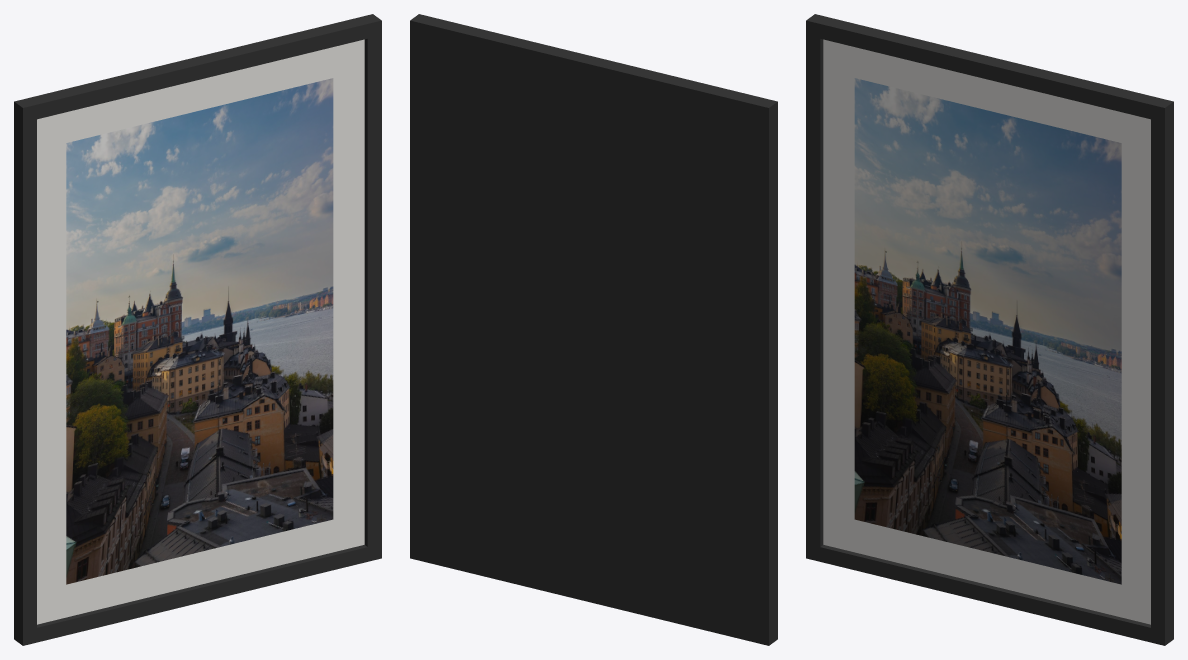
File: over-soder-60.gltf
3 renders of one model, left to right at view 1: azimuth 30°, elevation 25°; view 2: azimuth 150°, elevation 25°; view 3: azimuth 330°, elevation 25°, orthographic.
Parts seen in each view (by area): view 1: tavla; view 2: tavla; view 3: tavla.
Boxes of the visible parts, x1=… form: tavla: x1=14, y1=14, x2=381, y2=645; tavla: x1=410, y1=14, x2=777, y2=645; tavla: x1=806, y1=14, x2=1173, y2=645.
Bounding box in the file's own units: 0.5103 × 0.731 × 0.022.
3 materials, 1 textured.
